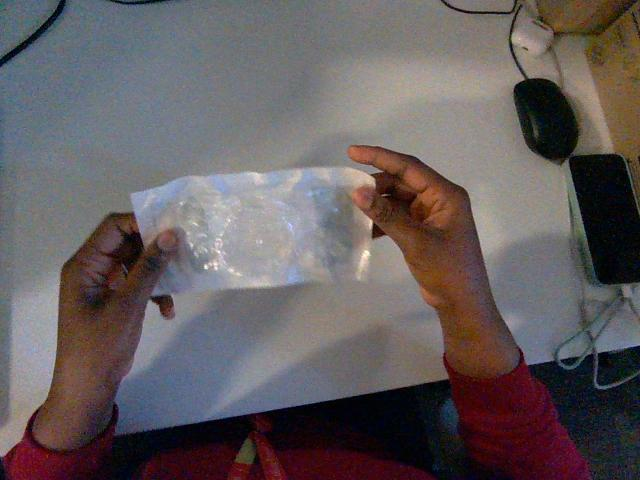gallipot: (131, 168, 373, 294)
